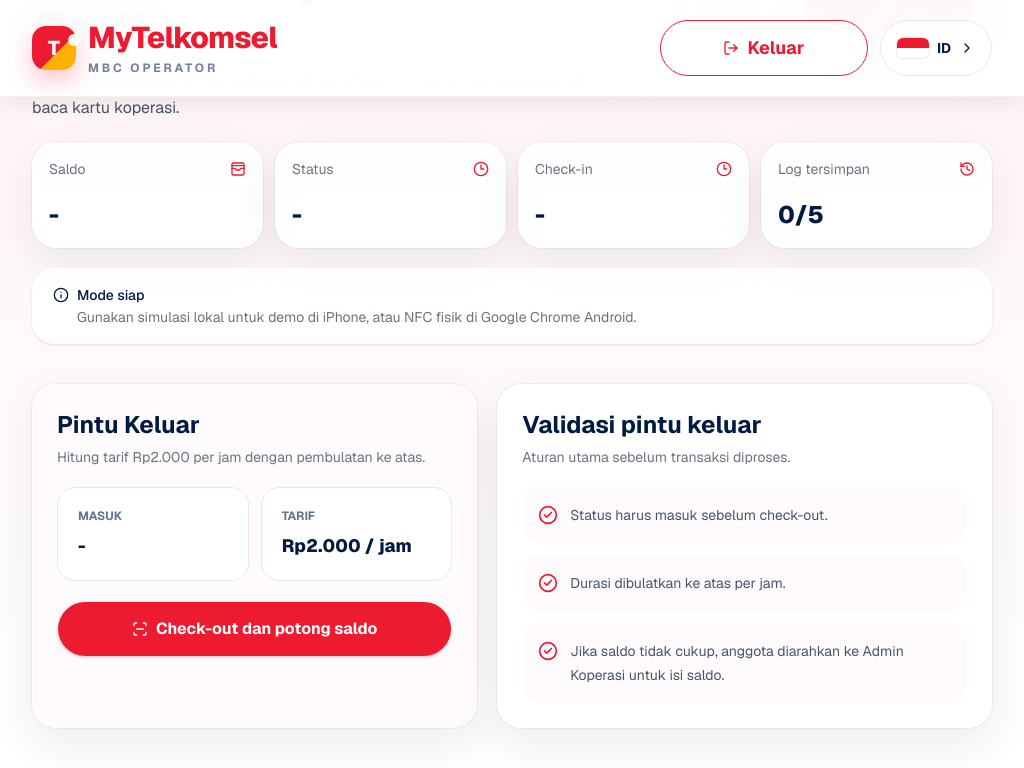
Test case: MbcApp role UI › explains that physical check-in must be written before checkout
The image size is (1024, 768).
(page scrolled)
Expected: the text "Pintu Keluar" is shown, [57, 409, 200, 440]
Click the button "Check-out dan potong saldo": (255, 629) [57, 601, 452, 657]
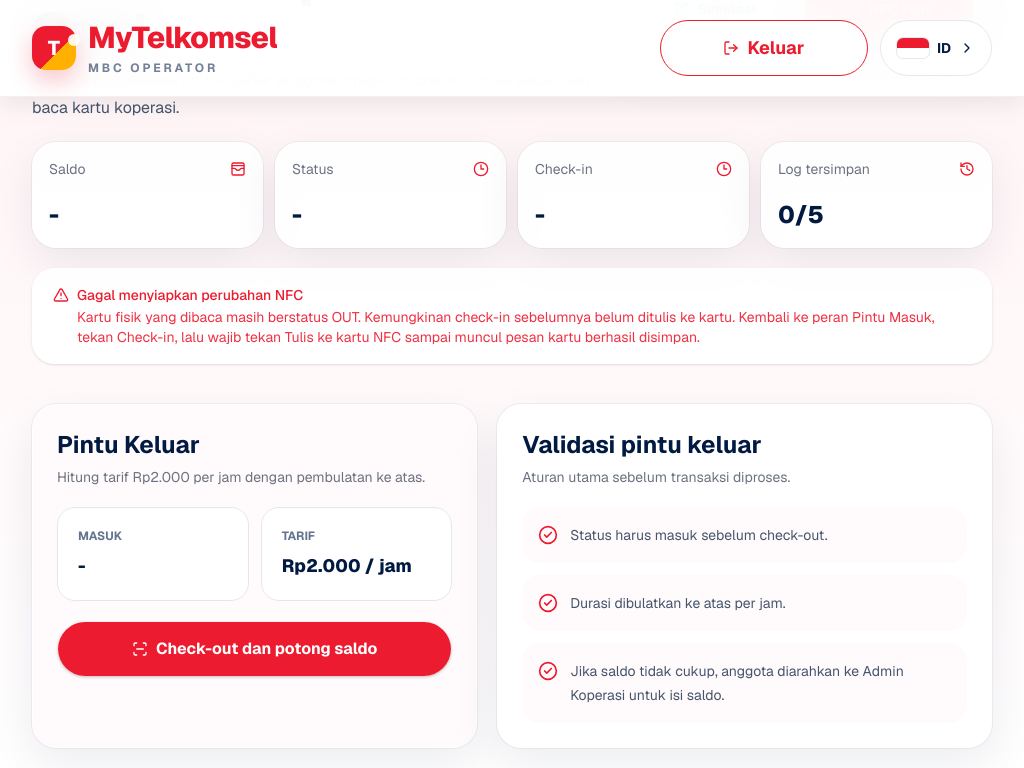
Expected: the text "Kemungkinan check-in sebelumnya belum ditulis ke kartu" is shown, [77, 308, 934, 346]
